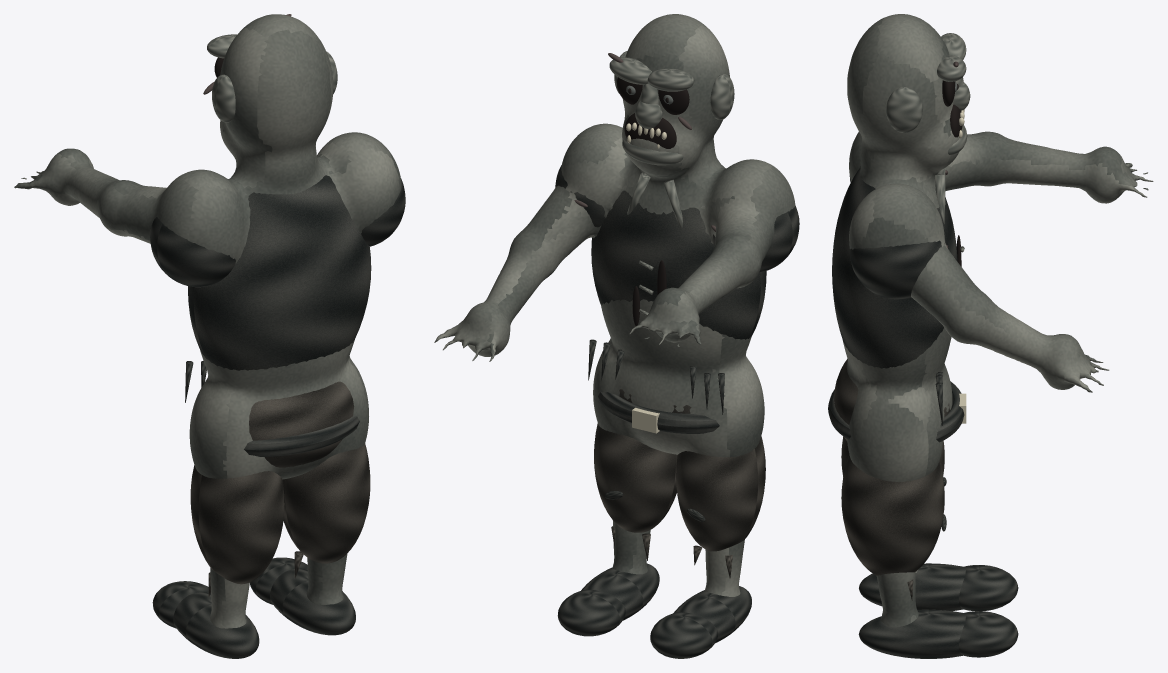
The model's file is zombie-realistic.glb.
3 views of the same model, side by side, from view 1: azimuth 30°, elevation 25°; view 2: azimuth 150°, elevation 25°; view 3: azimuth 270°, elevation 25° (orthographic). The views are drawn at different scales.
Visible parts, largest first — view 1: Unified emaciated body, Shredded shirt torso, torn trouser leg, torn trouser leg.001, trouser hips, torn sleeve, scuffed boot, scuffed boot.001, worn belt, boot toe, torn sleeve.001, boot toe.001 (+1 smaller); view 2: Unified emaciated body, Shredded shirt torso, torn trouser leg, torn trouser leg.001, boot toe.001, boot toe, scuffed boot.001, scuffed boot, worn belt, torn sleeve, ear, heavy brow ridge (+7 smaller); view 3: Unified emaciated body, Shredded shirt torso, torn trouser leg.001, scuffed boot.001, torn sleeve.001, scuffed boot, boot toe.001, boot toe, ear.001, worn belt, trouser hips, heavy brow ridge.001.
Boxes of the visible parts, <box> form: Unified emaciated body: <box>14,14,401,628</box>; Shredded shirt torso: <box>188,175,371,370</box>; torn trouser leg: <box>190,465,284,584</box>; torn trouser leg.001: <box>282,443,370,563</box>; trouser hips: <box>249,381,354,467</box>; torn sleeve: <box>150,217,235,287</box>; scuffed boot: <box>173,592,259,658</box>; scuffed boot.001: <box>270,568,355,635</box>; worn belt: <box>244,416,359,456</box>; boot toe: <box>152,581,210,628</box>; torn sleeve.001: <box>361,178,405,246</box>; boot toe.001: <box>250,557,307,604</box>; Unified emaciated body: <box>434,14,795,596</box>; Shredded shirt torso: <box>591,165,766,339</box>; torn trouser leg: <box>676,436,765,551</box>; torn trouser leg.001: <box>594,423,677,532</box>; boot toe.001: <box>557,589,625,636</box>; boot toe: <box>650,612,717,658</box>; scuffed boot.001: <box>581,563,659,620</box>; scuffed boot: <box>673,586,751,643</box>; worn belt: <box>598,392,719,433</box>; torn sleeve: <box>712,205,799,272</box>; ear: <box>710,74,734,119</box>; heavy brow ridge: <box>647,68,694,91</box>; Unified emaciated body: <box>842,14,1153,627</box>; Shredded shirt torso: <box>832,167,957,368</box>; torn trouser leg.001: <box>841,455,944,575</box>; scuffed boot.001: <box>858,609,965,658</box>; torn sleeve.001: <box>849,238,946,299</box>; scuffed boot: <box>859,563,965,611</box>; boot toe.001: <box>959,611,1018,657</box>; boot toe: <box>959,565,1018,611</box>; ear.001: <box>886,87,922,132</box>; worn belt: <box>828,381,964,442</box>; trouser hips: <box>834,359,949,441</box>; heavy brow ridge.001: <box>937,55,966,81</box>.
Size of the model in its own units: 1.11 by 2.23 by 1.07.
Materials: 8 (4 with a texture image).
